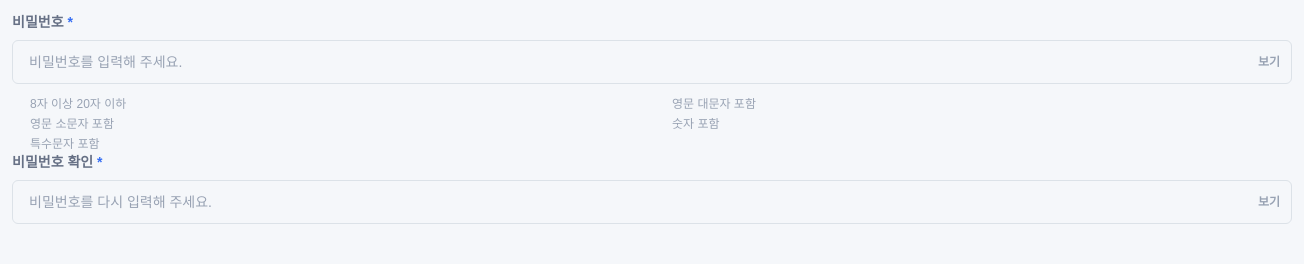
Scenario: 비밀번호와 확인이 다르면 불일치 메시지를 보여준다
In the password field labelled "비밀번호 *": (652, 62) left=12, top=40, right=1292, bottom=84, type "Abcdefg1!"
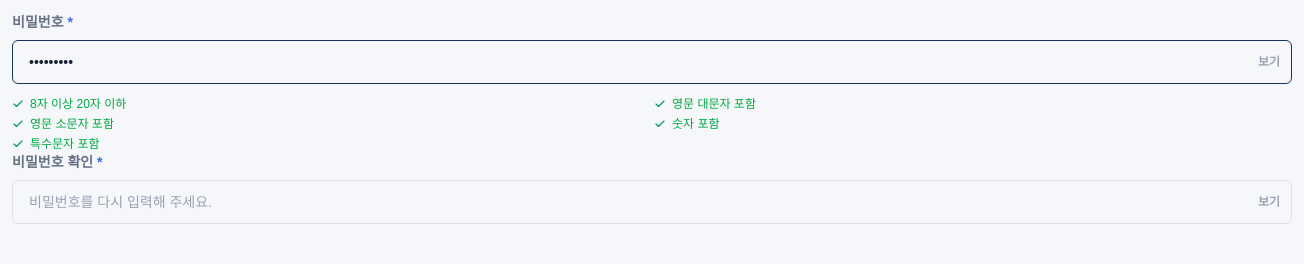
In the password field labelled "비밀번호 확인 *": (652, 202) left=12, top=180, right=1292, bottom=224, type "Abcdefg2!"
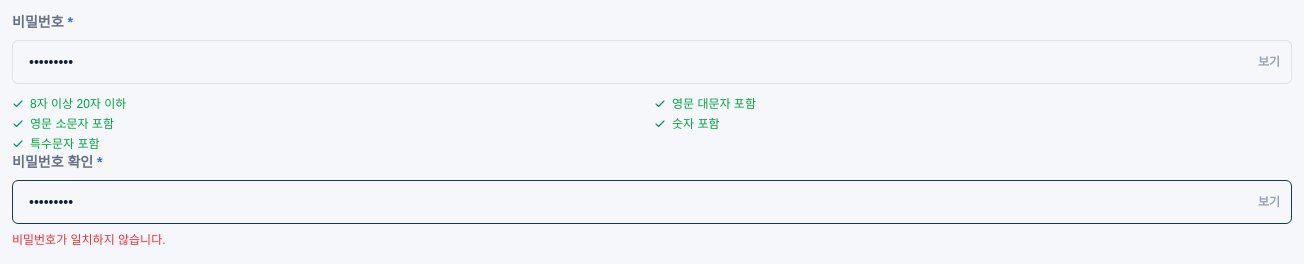
expect the text "비밀번호가 일치하지 않습니다." is shown: met, box left=12, top=233, right=166, bottom=247
